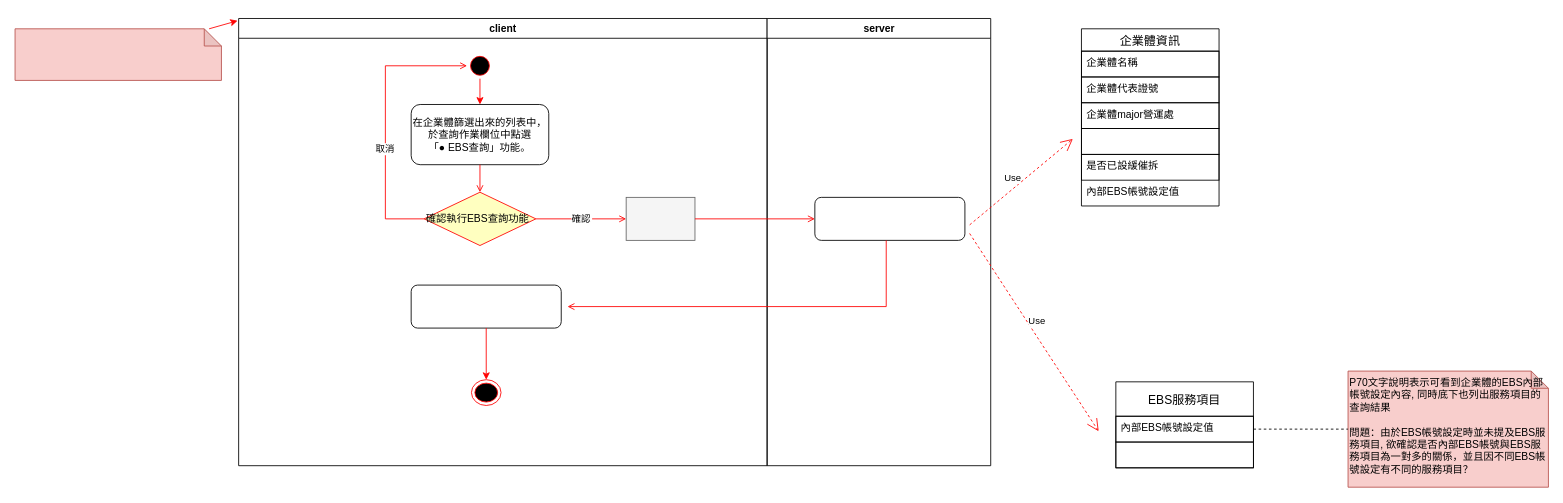
Some shapes in this 1563 by 503 pixel diagram are drawn without their labels. The centre of each missing label's shape, as x and y in pixels:
1.使用者身分 2.企業體PK: (x=660, y=218)
服務項目: (x=1184, y=454)
查詢對應企業體之EBS資料: (x=889, y=218)
此功能內容在: help_custom_base.pdf的70頁: (x=117, y=54)
瀏覽EBS內部帳號內容 及EBS服務項目查詢結果: (x=485, y=306)
生效日期: (x=1150, y=141)
